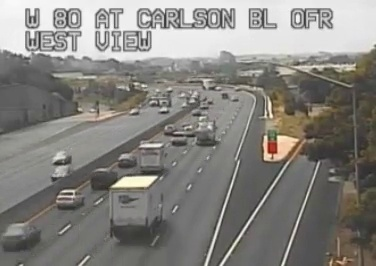car: (1, 224, 40, 251), (56, 189, 83, 209), (91, 169, 116, 189), (118, 154, 136, 168), (170, 132, 186, 145)
small-truck: (109, 175, 162, 237), (138, 142, 164, 173)
